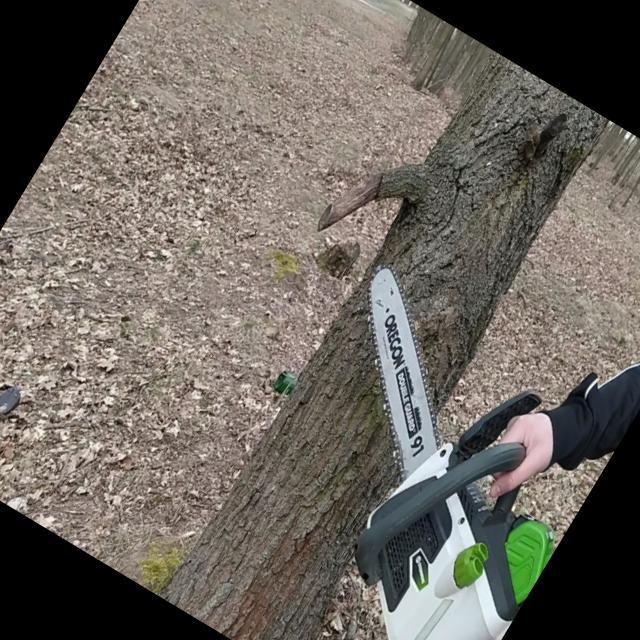Chainsaw: (168, 250, 640, 640)
